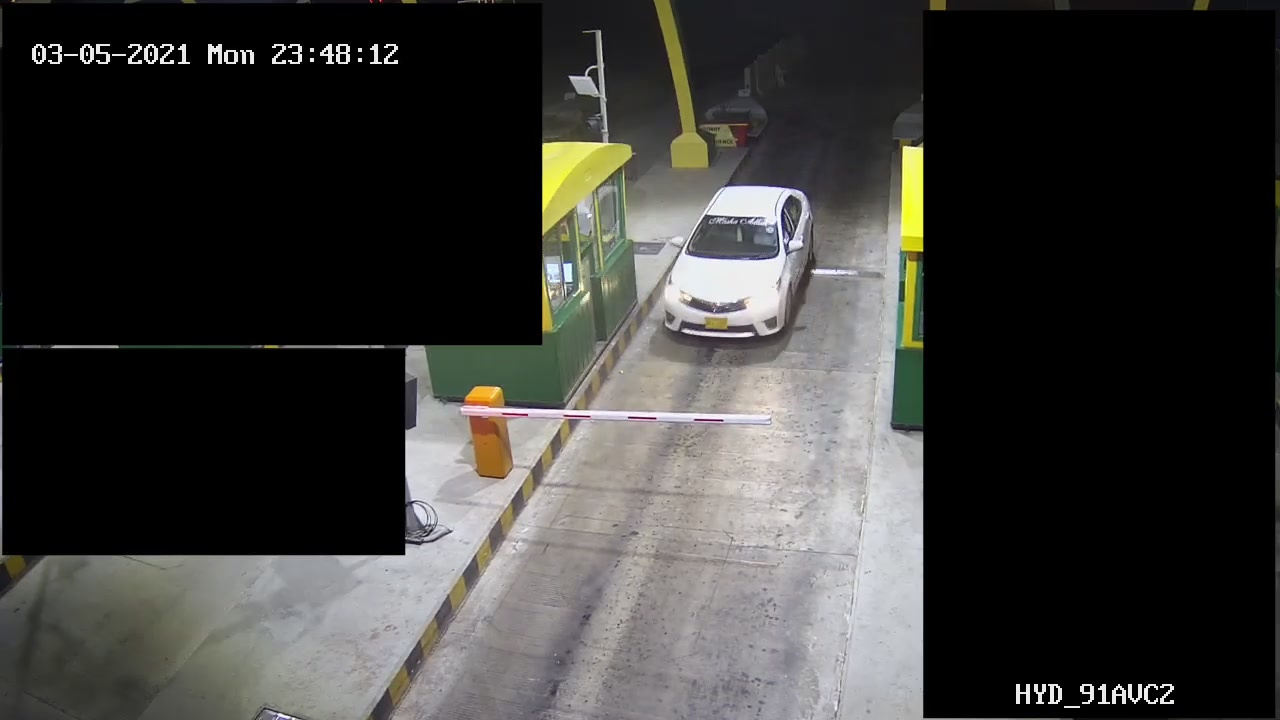F1: (641, 180, 833, 355)
